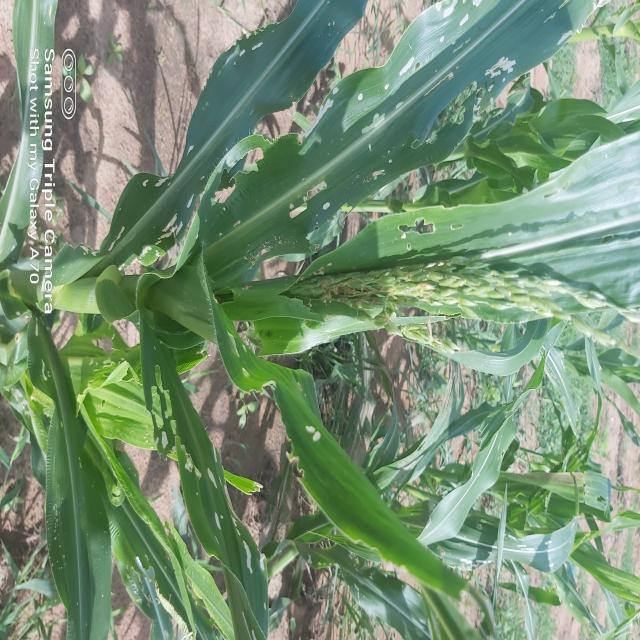fall-armyworm-frass: (301, 268, 344, 309), (46, 497, 68, 574), (332, 173, 371, 209), (259, 227, 297, 257), (311, 13, 344, 43)
fall-armyworm-larval-damage: (405, 78, 483, 170), (150, 356, 199, 493), (211, 142, 284, 211), (84, 347, 136, 407), (398, 206, 466, 249), (135, 540, 173, 616), (569, 479, 617, 533), (286, 169, 327, 225), (24, 354, 52, 430), (207, 274, 239, 321), (283, 118, 318, 160), (286, 429, 312, 484), (351, 529, 394, 560), (600, 220, 636, 256), (104, 468, 134, 511), (236, 378, 280, 405), (533, 170, 570, 202), (395, 217, 444, 241), (60, 232, 95, 259), (242, 468, 262, 502)
